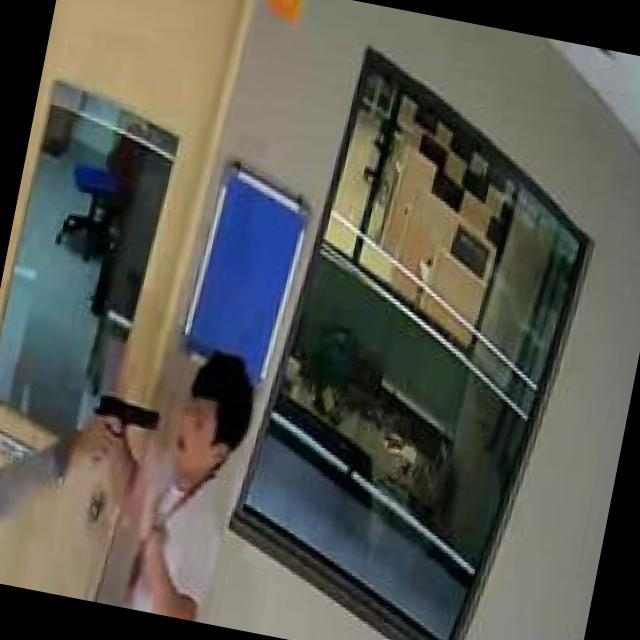Guns: (57, 373, 176, 466)
